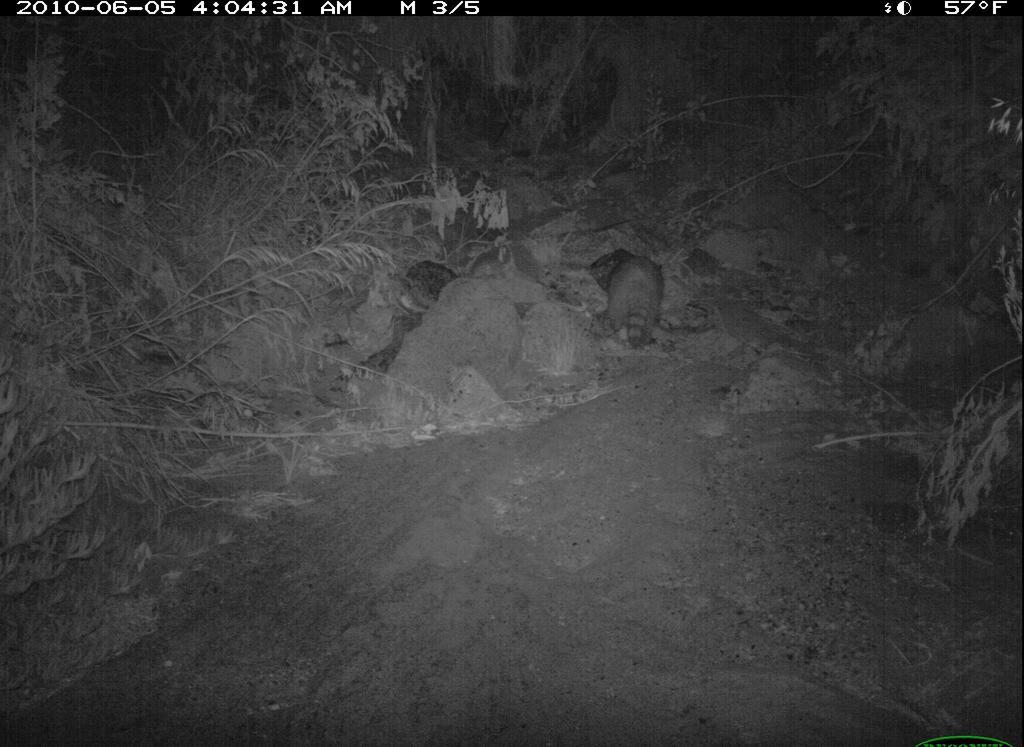raccoon: (605, 252, 669, 355)
